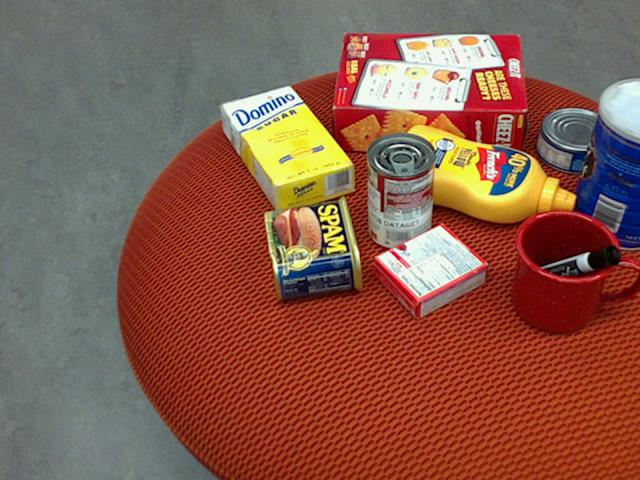cracker_box: (332, 31, 526, 153)
gelatin_box: (370, 225, 487, 320)
large_marker: (518, 243, 621, 289)
master_chef_can: (568, 78, 639, 250)
mug: (511, 209, 639, 333)
mustard_bottle: (386, 124, 575, 223)
potted_meat_can: (262, 194, 362, 299)
sugar_box: (219, 83, 355, 215)
tomato_soup_can: (365, 130, 435, 249)
tuna_fish_can: (534, 106, 614, 173)
